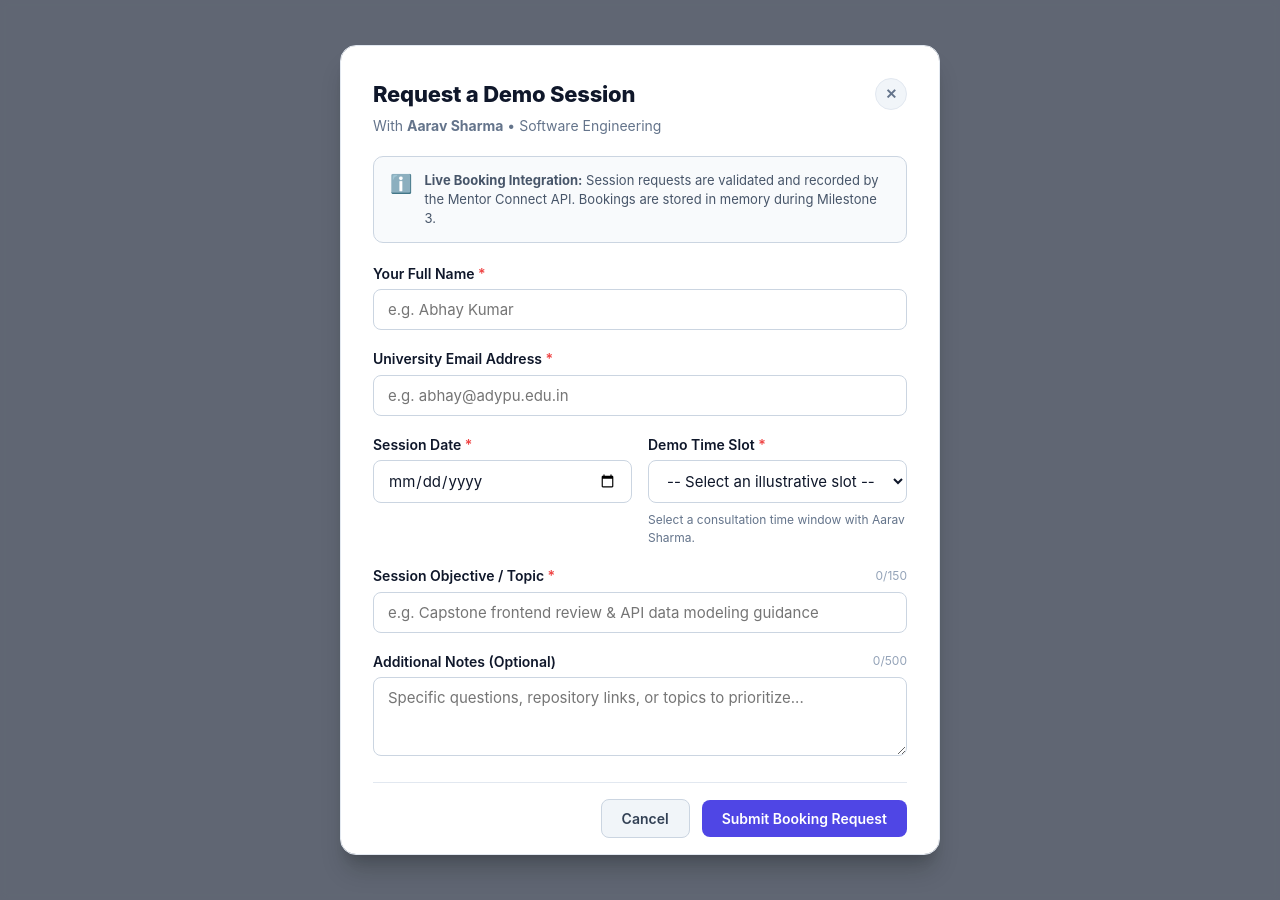
Test case: Booking Modal › enforces character count limits on topic and notes
In the field labelled "Session Objective / Topic *": (640, 612) [373, 592, 907, 633], type "Hello"
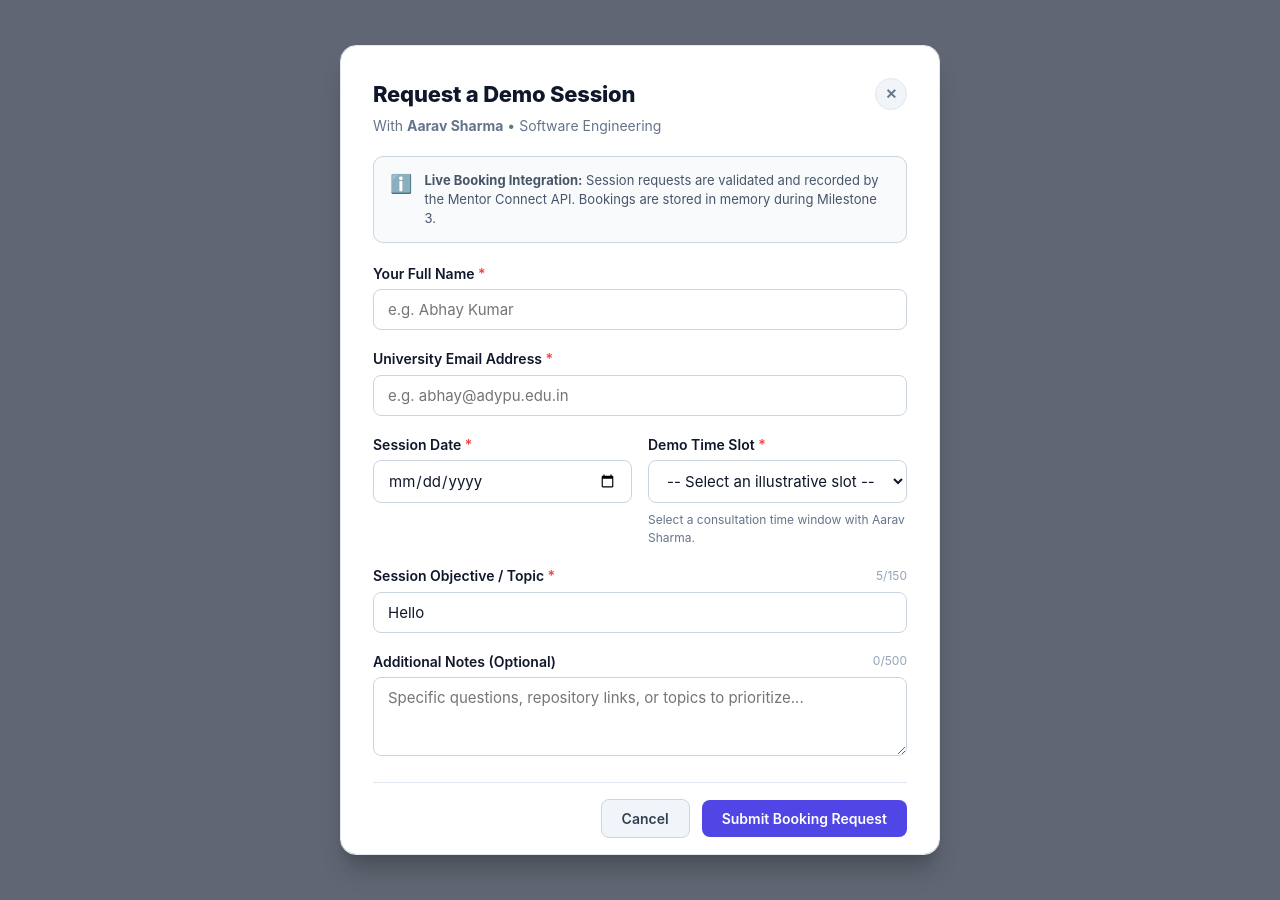
Expected: the text "5/150" is shown, [876, 567, 907, 585]
Replace the text in the text box labelled "Additional Notes (Optional)" with "Important notes": (640, 717) [373, 678, 907, 756]
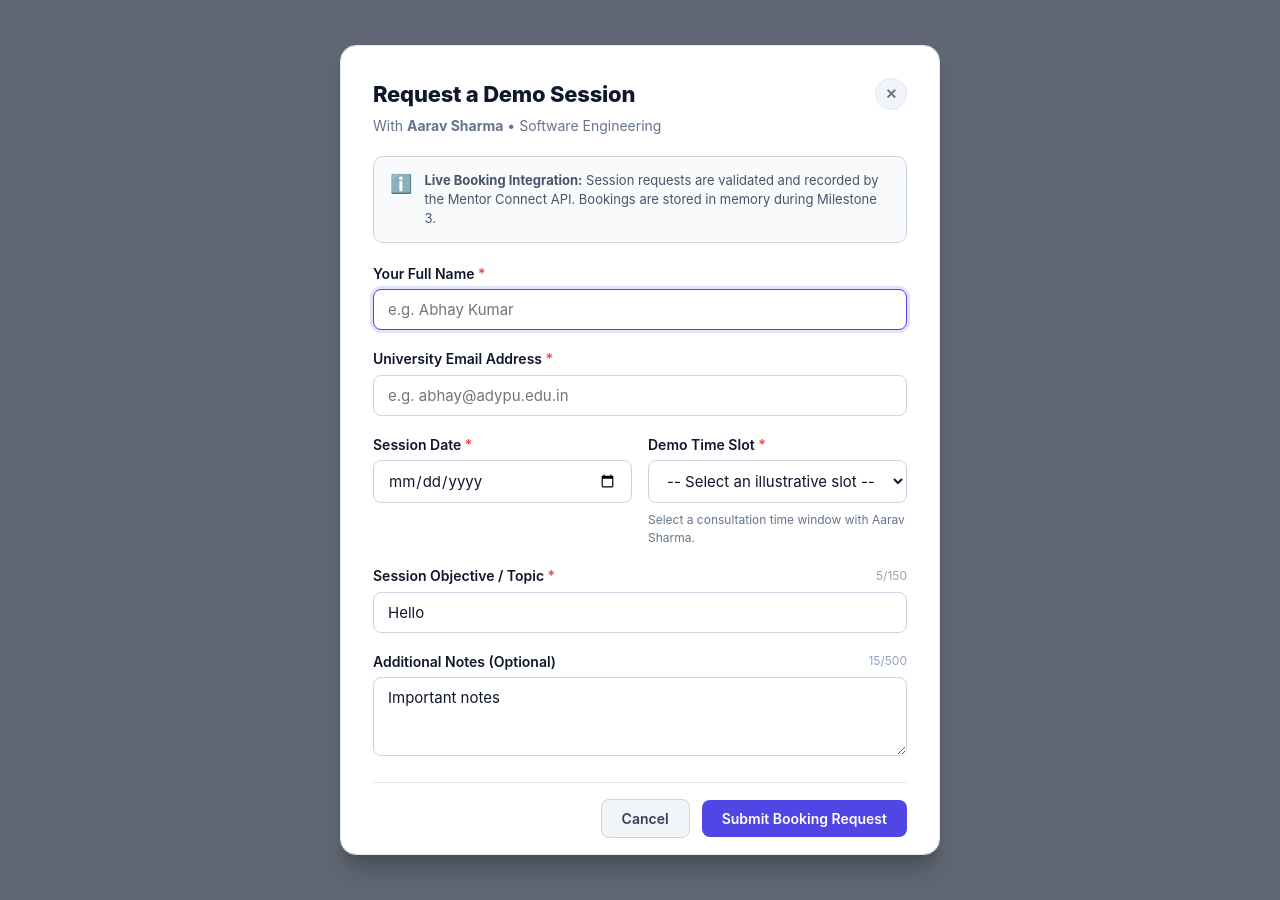
Expected: the text "15/500" is shown, [868, 652, 907, 670]
